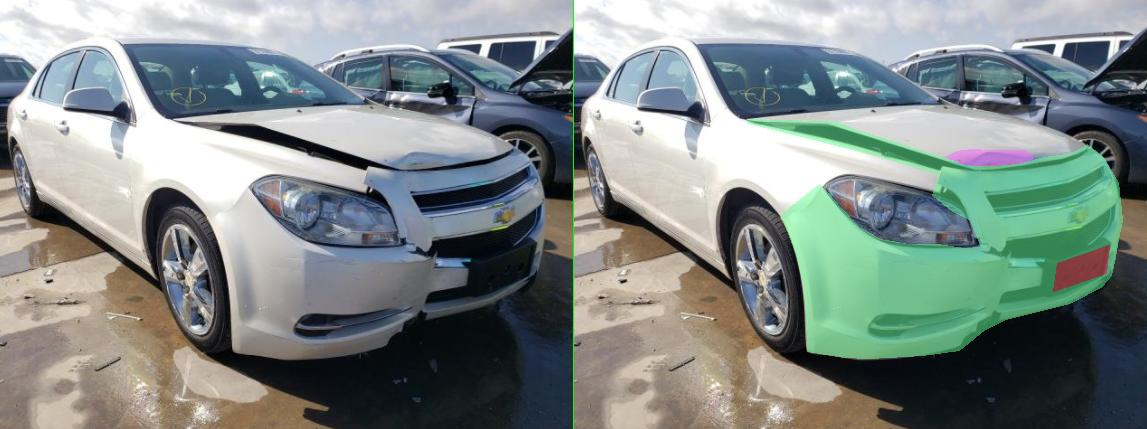Broken part: (414, 144, 1097, 358), (344, 119, 769, 175)
Dent: (743, 149, 919, 176), (550, 253, 611, 270)
Missing part: (959, 245, 1071, 291)
Paint chip: (813, 160, 879, 172), (635, 259, 719, 268), (775, 292, 805, 304)
